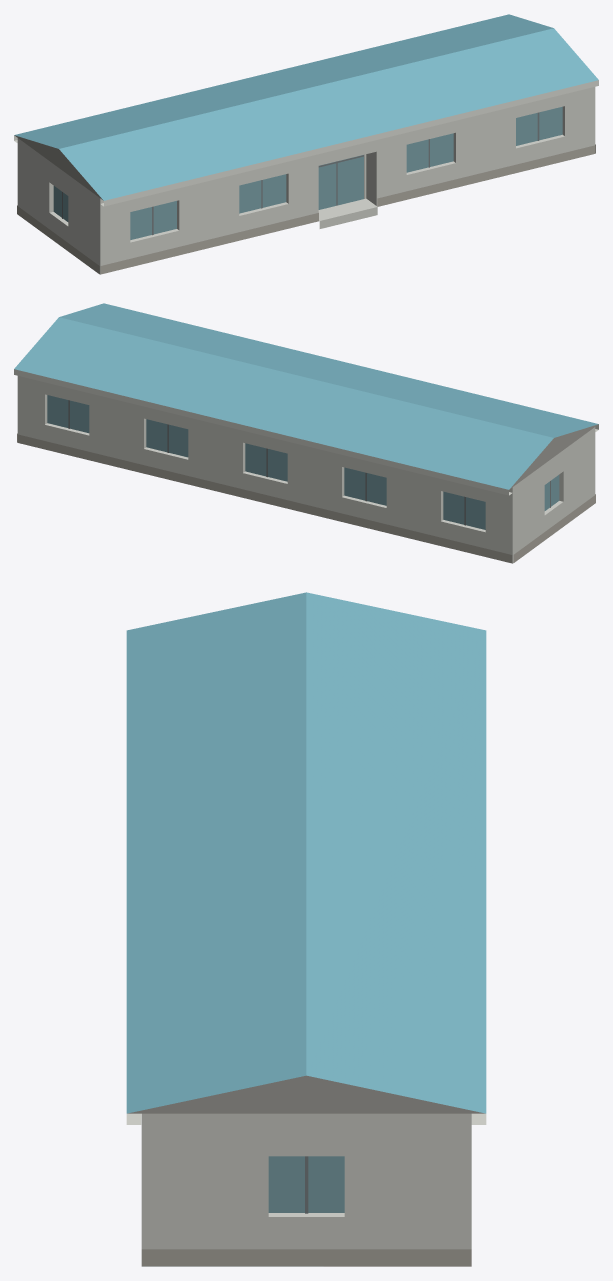
3 renders of one model, top to bottom at view 1: azimuth 30°, elevation 25°; view 2: azimuth 150°, elevation 25°; view 3: azimuth 270°, elevation 25°, orthographic. The views are drawn at different scales.
Visible parts, largest first — view 1: aux778946315__roofAccent, aux778946315__wall, aux778946315__glass, aux778946315__base, aux778946315__trim, aux778946315__entranceThreshold_0, aux778946315__wall2, aux778946315__frame; view 2: aux778946315__roofAccent, aux778946315__wall, aux778946315__glass, aux778946315__base, aux778946315__trim, aux778946315__wall2; view 3: aux778946315__roofAccent, aux778946315__wall, aux778946315__wall2, aux778946315__base, aux778946315__glass.
Part boxes in pixels (left/top/right/bottom): aux778946315__roofAccent: left=14, top=14, right=598, bottom=200; aux778946315__wall: left=17, top=87, right=595, bottom=274; aux778946315__glass: left=53, top=106, right=562, bottom=239; aux778946315__base: left=17, top=144, right=595, bottom=274; aux778946315__trim: left=14, top=80, right=598, bottom=206; aux778946315__entranceThreshold_0: left=318, top=198, right=377, bottom=228; aux778946315__wall2: left=15, top=135, right=103, bottom=200; aux778946315__frame: left=62, top=112, right=539, bottom=235; aux778946315__roofAccent: left=14, top=303, right=598, bottom=489; aux778946315__wall: left=17, top=376, right=595, bottom=563; aux778946315__glass: left=47, top=395, right=559, bottom=529; aux778946315__base: left=17, top=433, right=595, bottom=563; aux778946315__trim: left=14, top=369, right=598, bottom=495; aux778946315__wall2: left=509, top=424, right=597, bottom=489; aux778946315__roofAccent: left=126, top=592, right=486, bottom=1113; aux778946315__wall: left=141, top=1113, right=471, bottom=1249; aux778946315__wall2: left=128, top=1075, right=484, bottom=1113; aux778946315__base: left=141, top=1249, right=471, bottom=1266; aux778946315__glass: left=268, top=1156, right=344, bottom=1212.
Bounding box in the file's own units: 27.32 × 5.4 × 8.57.
